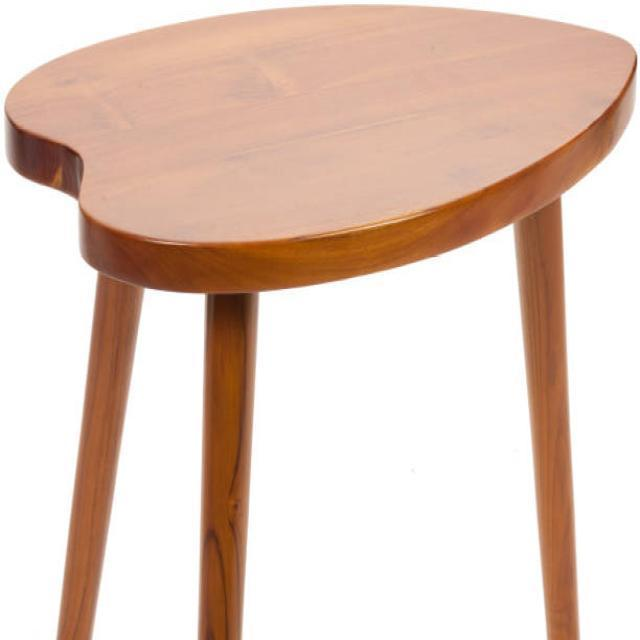table: (3, 0, 638, 639)
